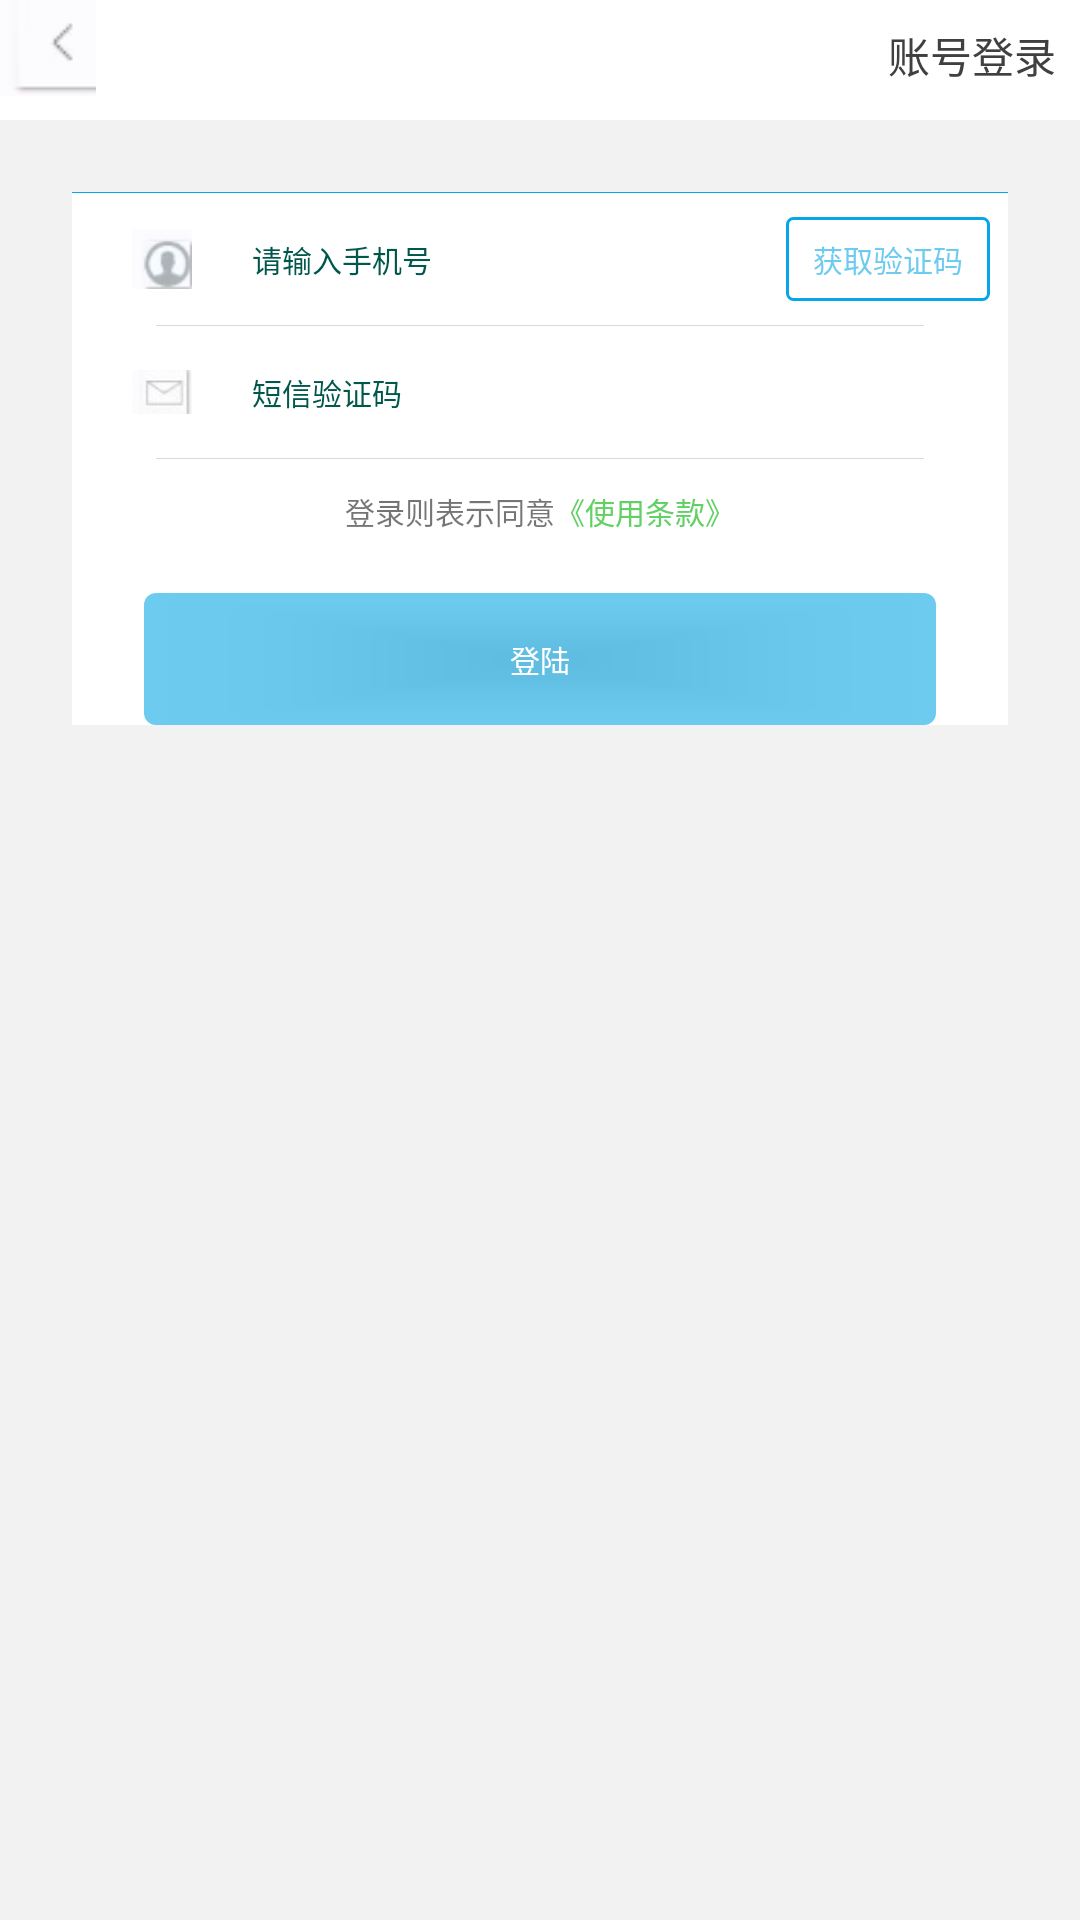

Screen size 1080 × 1920. Icon name, then its center in pixels as point (x, y):
back: point (57, 57)
person log: point (168, 265)
